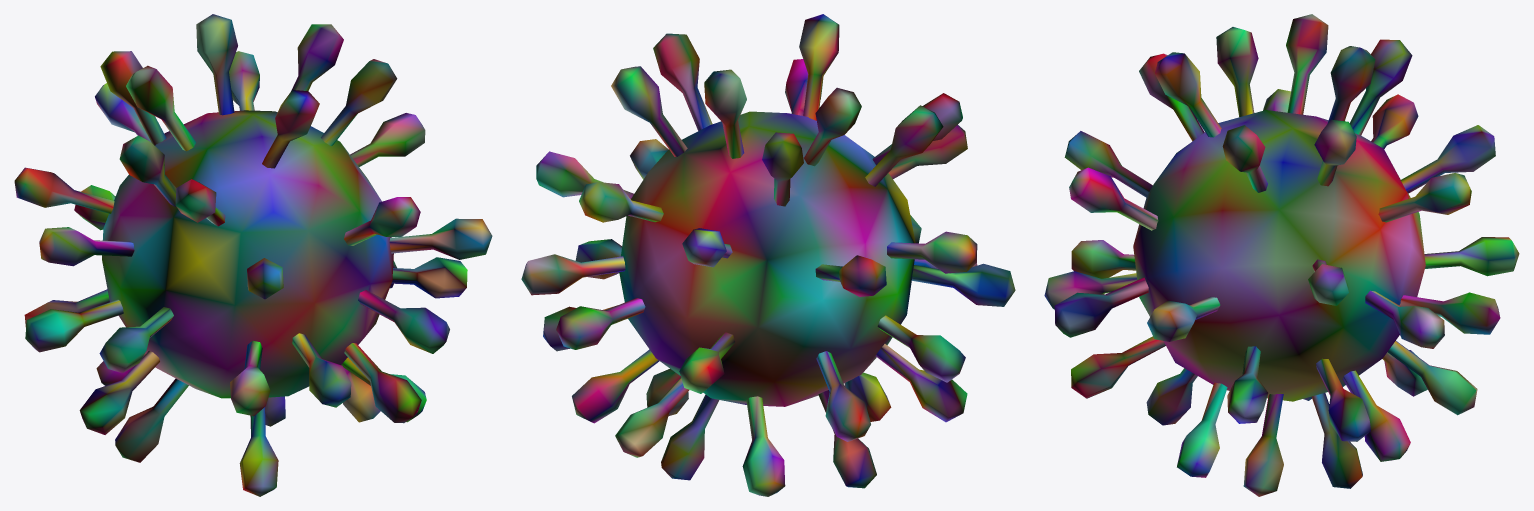
The model's file is microscopic-viruses-coronavirus_v3.fbx.
3 renders of one model, left to right at view 1: azimuth 30°, elevation 25°; view 2: azimuth 150°, elevation 25°; view 3: azimuth 270°, elevation 25°, orthographic.
Parts seen in each view (by area): view 1: Coronavirus_v3; view 2: Coronavirus_v3; view 3: Coronavirus_v3.
Part boxes in pixels (left/top/right/bottom): Coronavirus_v3: left=14, top=14, right=492, bottom=496; Coronavirus_v3: left=521, top=14, right=1015, bottom=496; Coronavirus_v3: left=1044, top=14, right=1519, bottom=496.
Size of the model in its own units: 0.1194 by 0.1158 by 0.12.
